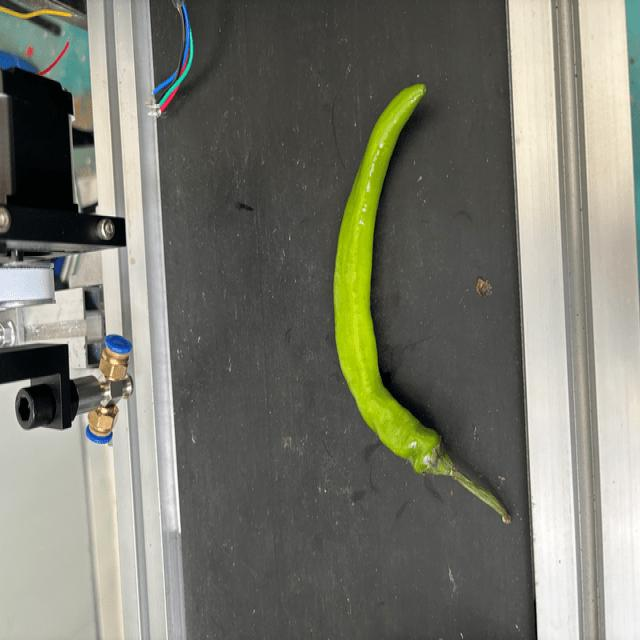chili: (331, 81, 453, 478)
